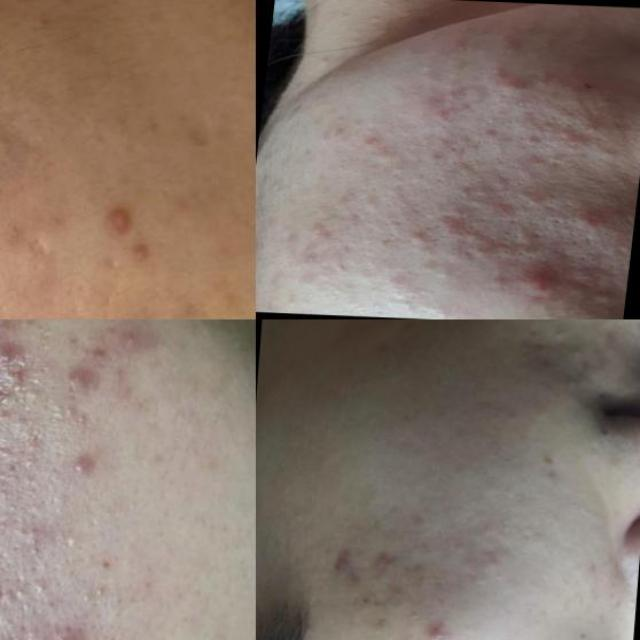acne_scars: (10, 209, 84, 272), (353, 582, 405, 624), (327, 542, 365, 586), (368, 536, 402, 581)
comedone: (456, 168, 518, 215), (376, 278, 438, 312), (283, 495, 319, 534), (552, 364, 587, 401), (447, 532, 474, 559), (548, 319, 574, 347), (491, 242, 519, 259), (439, 238, 467, 254), (522, 134, 547, 151), (469, 238, 490, 256), (348, 115, 371, 131), (281, 296, 301, 310), (499, 518, 511, 530), (492, 571, 504, 581)
papule: (62, 339, 113, 407), (55, 426, 106, 484), (32, 605, 109, 640), (508, 272, 576, 299), (0, 333, 38, 372), (321, 190, 376, 212), (498, 74, 535, 101), (399, 227, 439, 251), (572, 211, 606, 233), (424, 618, 454, 640), (426, 106, 455, 125), (305, 223, 335, 240), (422, 149, 452, 165), (576, 120, 605, 136), (359, 133, 385, 149), (426, 93, 450, 110), (477, 128, 500, 142), (416, 61, 438, 74)
